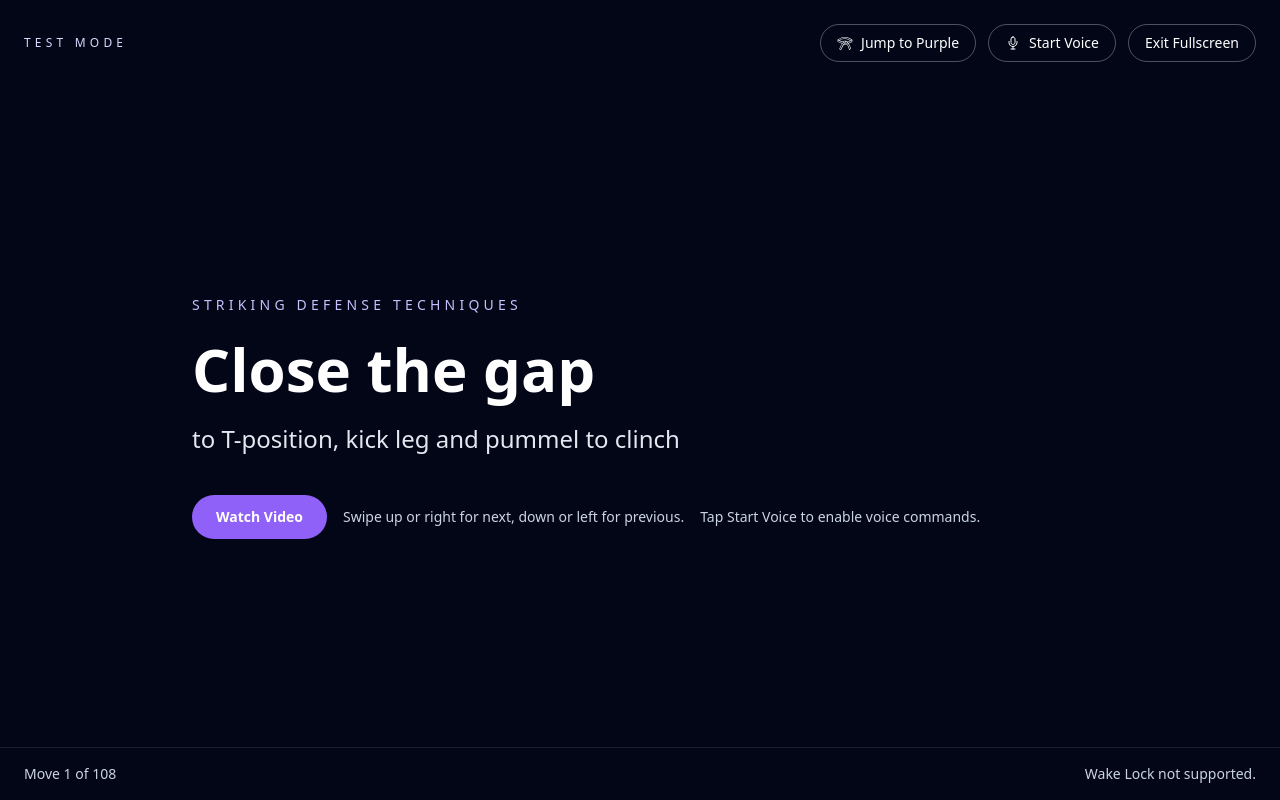
starts listening on user gesture and updates the button label
Click the button "Start Voice" at (1052, 43), box [988,24,1116,62]
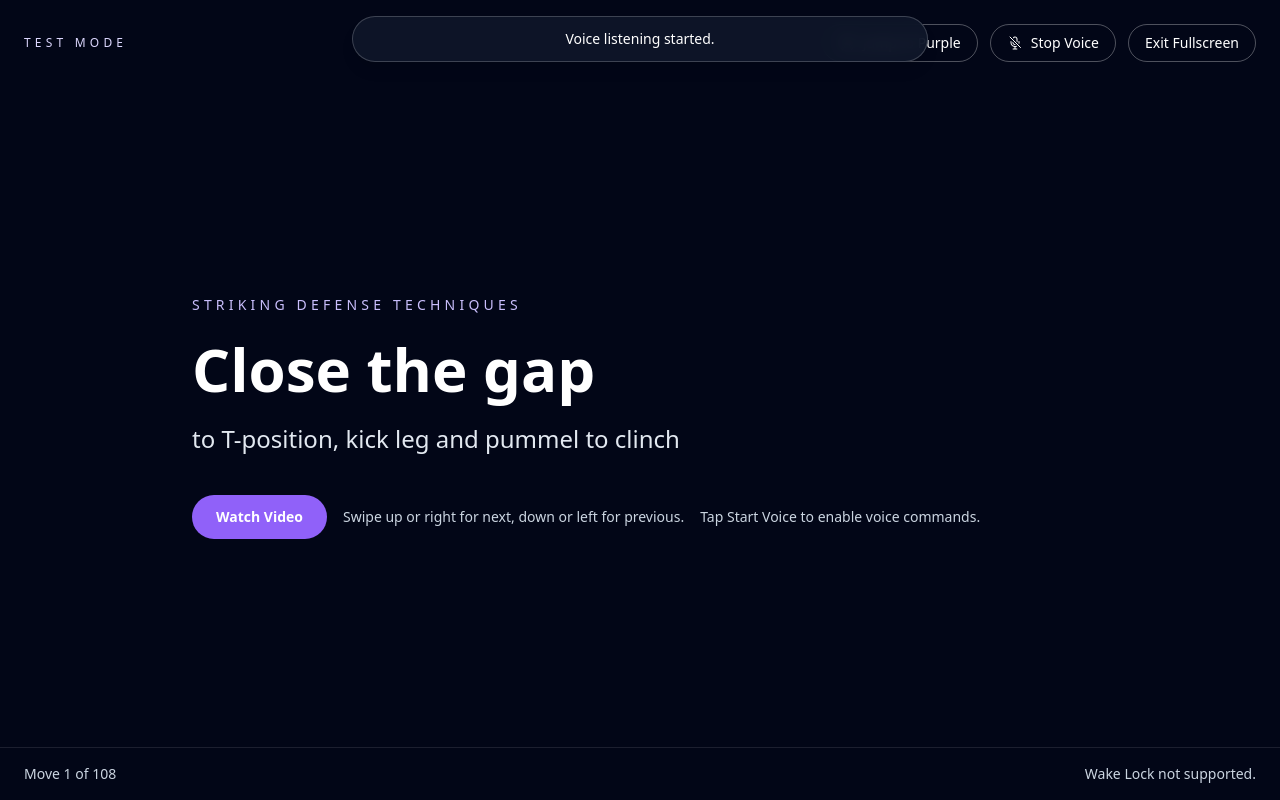
Expected: the button "Stop Voice" is shown, [990,24,1116,62]
Expected: the text "Voice listening started." is shown, [352,16,928,62]
